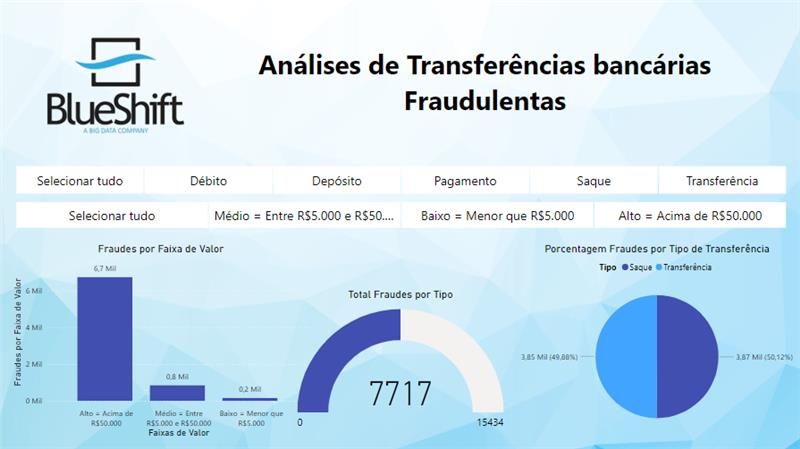

The dashboard page shown, as its layout file describes it:
{"tool":"powerbi","page":{"name":"Página 1","canvas":[1280,720],"ordinal":0},"visuals":[{"type":"pieChart","title":"Porcentagem Fraudes por Tipo de Transferência","fields":{"Category":["projeto_daniel_danillo_matheus.Tipo"],"Y":["projeto_daniel_danillo_matheus.% Fraudes por Tipo"]},"box":[820.1,387,459.9,317],"z":1000},{"type":"columnChart","title":"Fraudes por Faixa de Valor","fields":{"Category":["projeto_daniel_danillo_matheus.Faixas de Valor"],"Y":["projeto_daniel_danillo_matheus.Fraudes por Faixa de Valor"]},"box":[14.9,387,485.2,317],"z":2000},{"type":"card","fields":{"Values":["projeto_daniel_danillo_matheus.Fraude"]},"box":[500.1,387,320,317],"z":3000},{"type":"slicer","fields":{"Values":["projeto_daniel_danillo_matheus.Faixas de Valor"]},"box":[0,315.5,1280,55.1],"z":4000},{"type":"tableEx","fields":{"Values":["projeto_daniel_danillo_matheus.ContaOrigem","projeto_daniel_danillo_matheus.ValorFraudePorContaOrigem","projeto_daniel_danillo_matheus.Tipo"]},"box":[915.3,26.8,343.8,217.3],"z":5000},{"type":"slicer","fields":{"Values":["projeto_daniel_danillo_matheus.Tipo"]},"box":[0,244.1,1280,71.4],"z":6000},{"type":"image","box":[0,0,370.6,272.4],"z":6001},{"type":"textbox","box":[309.6,67,605.8,136.9],"z":6002}]}

Visuals, with their boxes in screenshot pixels (x1, y1, x2, y2), scaled from the page's 1280x720 canvas onto the 800x449 screenshot:
"Porcentagem Fraudes por Tipo de Transferência" pieChart: (513,241,799,439)
"Fraudes por Faixa de Valor" columnChart: (9,241,313,439)
card - projeto_daniel_danillo_matheus.Fraude: (313,241,513,439)
slicer - projeto_daniel_danillo_matheus.Faixas de Valor: (0,197,799,231)
tableEx - projeto_daniel_danillo_matheus.ContaOrigem x projeto_daniel_danillo_matheus.ValorFraudePorContaOrigem: (572,17,787,152)
slicer - projeto_daniel_danillo_matheus.Tipo: (0,152,799,197)
image: (0,0,232,170)
textbox: (194,42,572,127)
